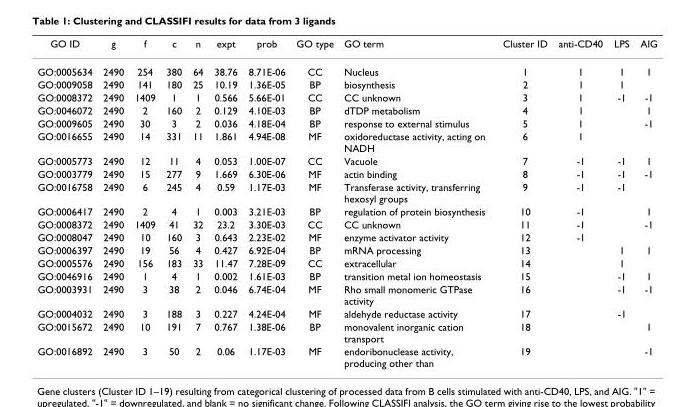table: (36, 37, 656, 368)
table column: (338, 37, 493, 368), (36, 37, 96, 368), (493, 37, 552, 368), (552, 37, 607, 368), (242, 37, 290, 368), (290, 37, 338, 368), (208, 37, 242, 368), (96, 37, 128, 368), (128, 37, 160, 368), (160, 37, 186, 368), (607, 37, 633, 368), (633, 37, 656, 368), (186, 37, 208, 368)
table column header: (36, 37, 656, 57)
table row: (36, 179, 656, 204), (36, 319, 656, 344), (36, 129, 656, 153), (36, 282, 656, 306), (36, 344, 656, 368), (36, 37, 656, 57), (36, 57, 656, 77), (36, 77, 656, 90), (36, 90, 656, 103), (36, 103, 656, 116), (36, 116, 656, 129), (36, 153, 656, 166), (36, 166, 656, 179), (36, 204, 656, 217), (36, 217, 656, 230), (36, 230, 656, 243), (36, 243, 656, 256), (36, 256, 656, 269), (36, 269, 656, 282), (36, 306, 656, 319)
